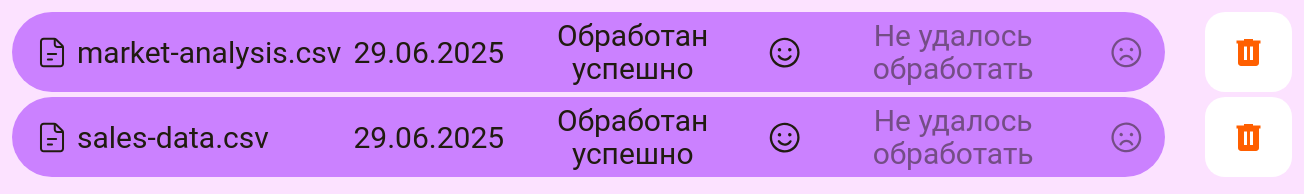
Test: HistoryList Integration Tests › Item Deletion › удаляет элемент как из хранилища, так и из состояния при удалении
Expected: the text "sales-data.csv" is shown, [77,120,269,154]
Expected: the text "market-analysis.csv" is shown, [77,36,341,68]
Click the button named "Удалить файл sales-data.csv" at (1248, 137), box [1205,97,1292,177]
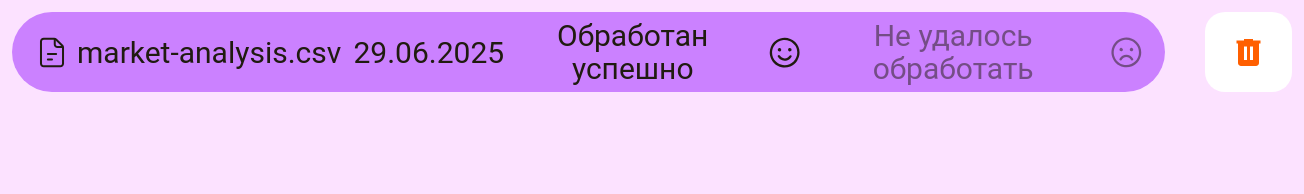
Expected: the text "market-analysis.csv" is shown, [77,36,341,68]
Now the button "sales-data.csv" is gone
